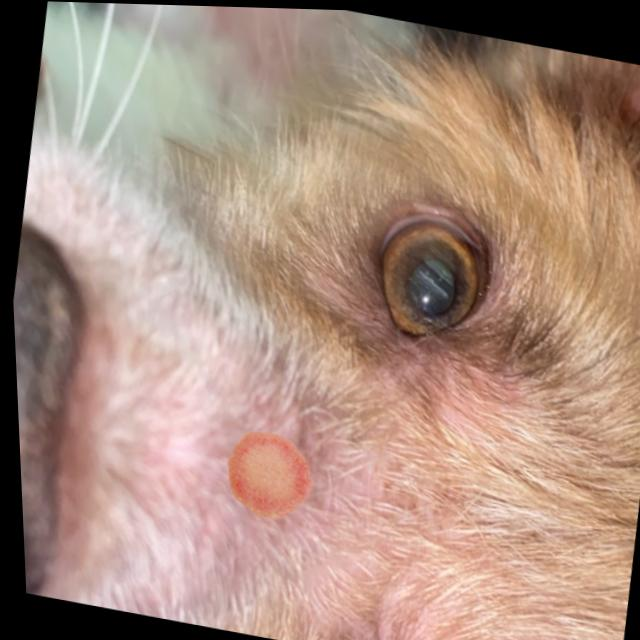ringworm: (218, 414, 318, 538)
